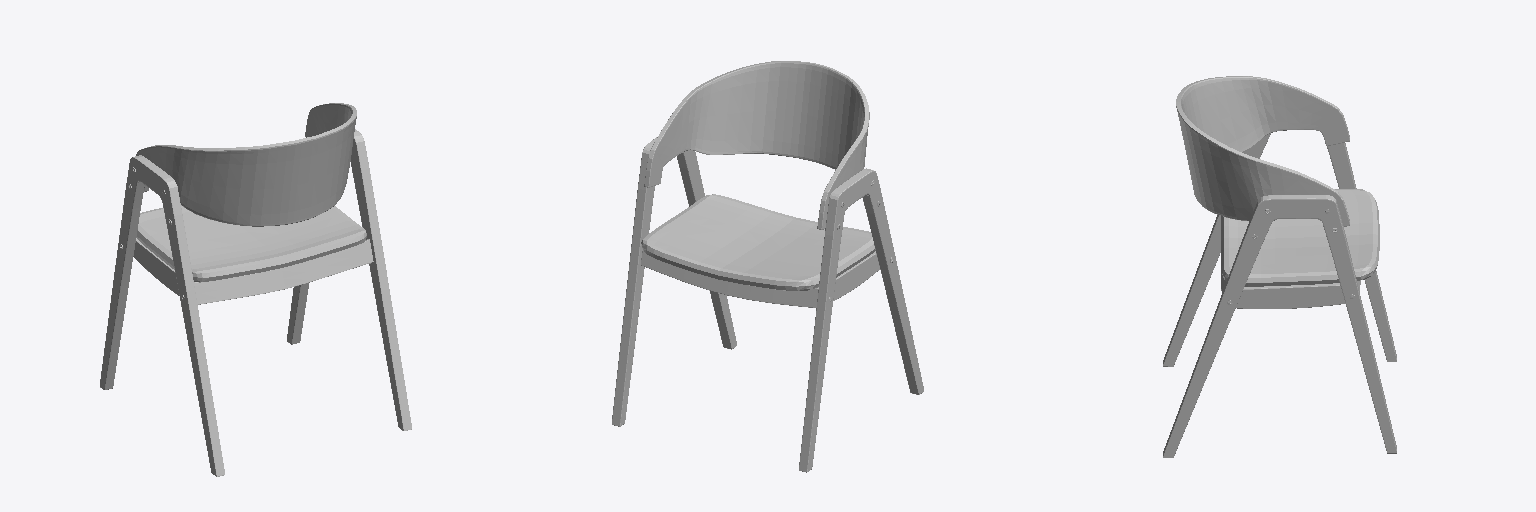
Rendered from Mid-Century Modern Dining Chair.obj.
3 renders of one model, left to right at view 1: azimuth 30°, elevation 25°; view 2: azimuth 150°, elevation 25°; view 3: azimuth 270°, elevation 25°, orthographic.
Parts seen in each view (by area): view 1: BackRest, Foam, LegLeft001, LegLeft, SupportRear, SupportRight; view 2: BackRest, Foam, LegLeft001, LegLeft, SupportFront, SupportRight; view 3: BackRest, LegLeft, Foam, LegLeft001, SupportLeft.
Part boxes in pixels (bbox=[...]): BackRest: bbox=[136, 103, 356, 226]; Foam: bbox=[136, 205, 366, 282]; LegLeft001: bbox=[100, 155, 224, 476]; LegLeft: bbox=[287, 129, 411, 430]; SupportRear: bbox=[194, 239, 373, 304]; SupportRight: bbox=[133, 239, 179, 295]; BackRest: bbox=[644, 61, 869, 229]; Foam: bbox=[641, 194, 875, 291]; LegLeft001: bbox=[799, 168, 923, 472]; LegLeft: bbox=[612, 137, 736, 426]; SupportFront: bbox=[641, 250, 818, 307]; SupportRight: bbox=[833, 251, 879, 300]; BackRest: bbox=[1176, 76, 1349, 226]; LegLeft: bbox=[1163, 195, 1396, 457]; Foam: bbox=[1221, 189, 1379, 286]; LegLeft001: bbox=[1163, 133, 1396, 366]; SupportLeft: bbox=[1236, 283, 1345, 308].
Bounding box in the file's own units: 59.88 × 89.34 × 61.54.